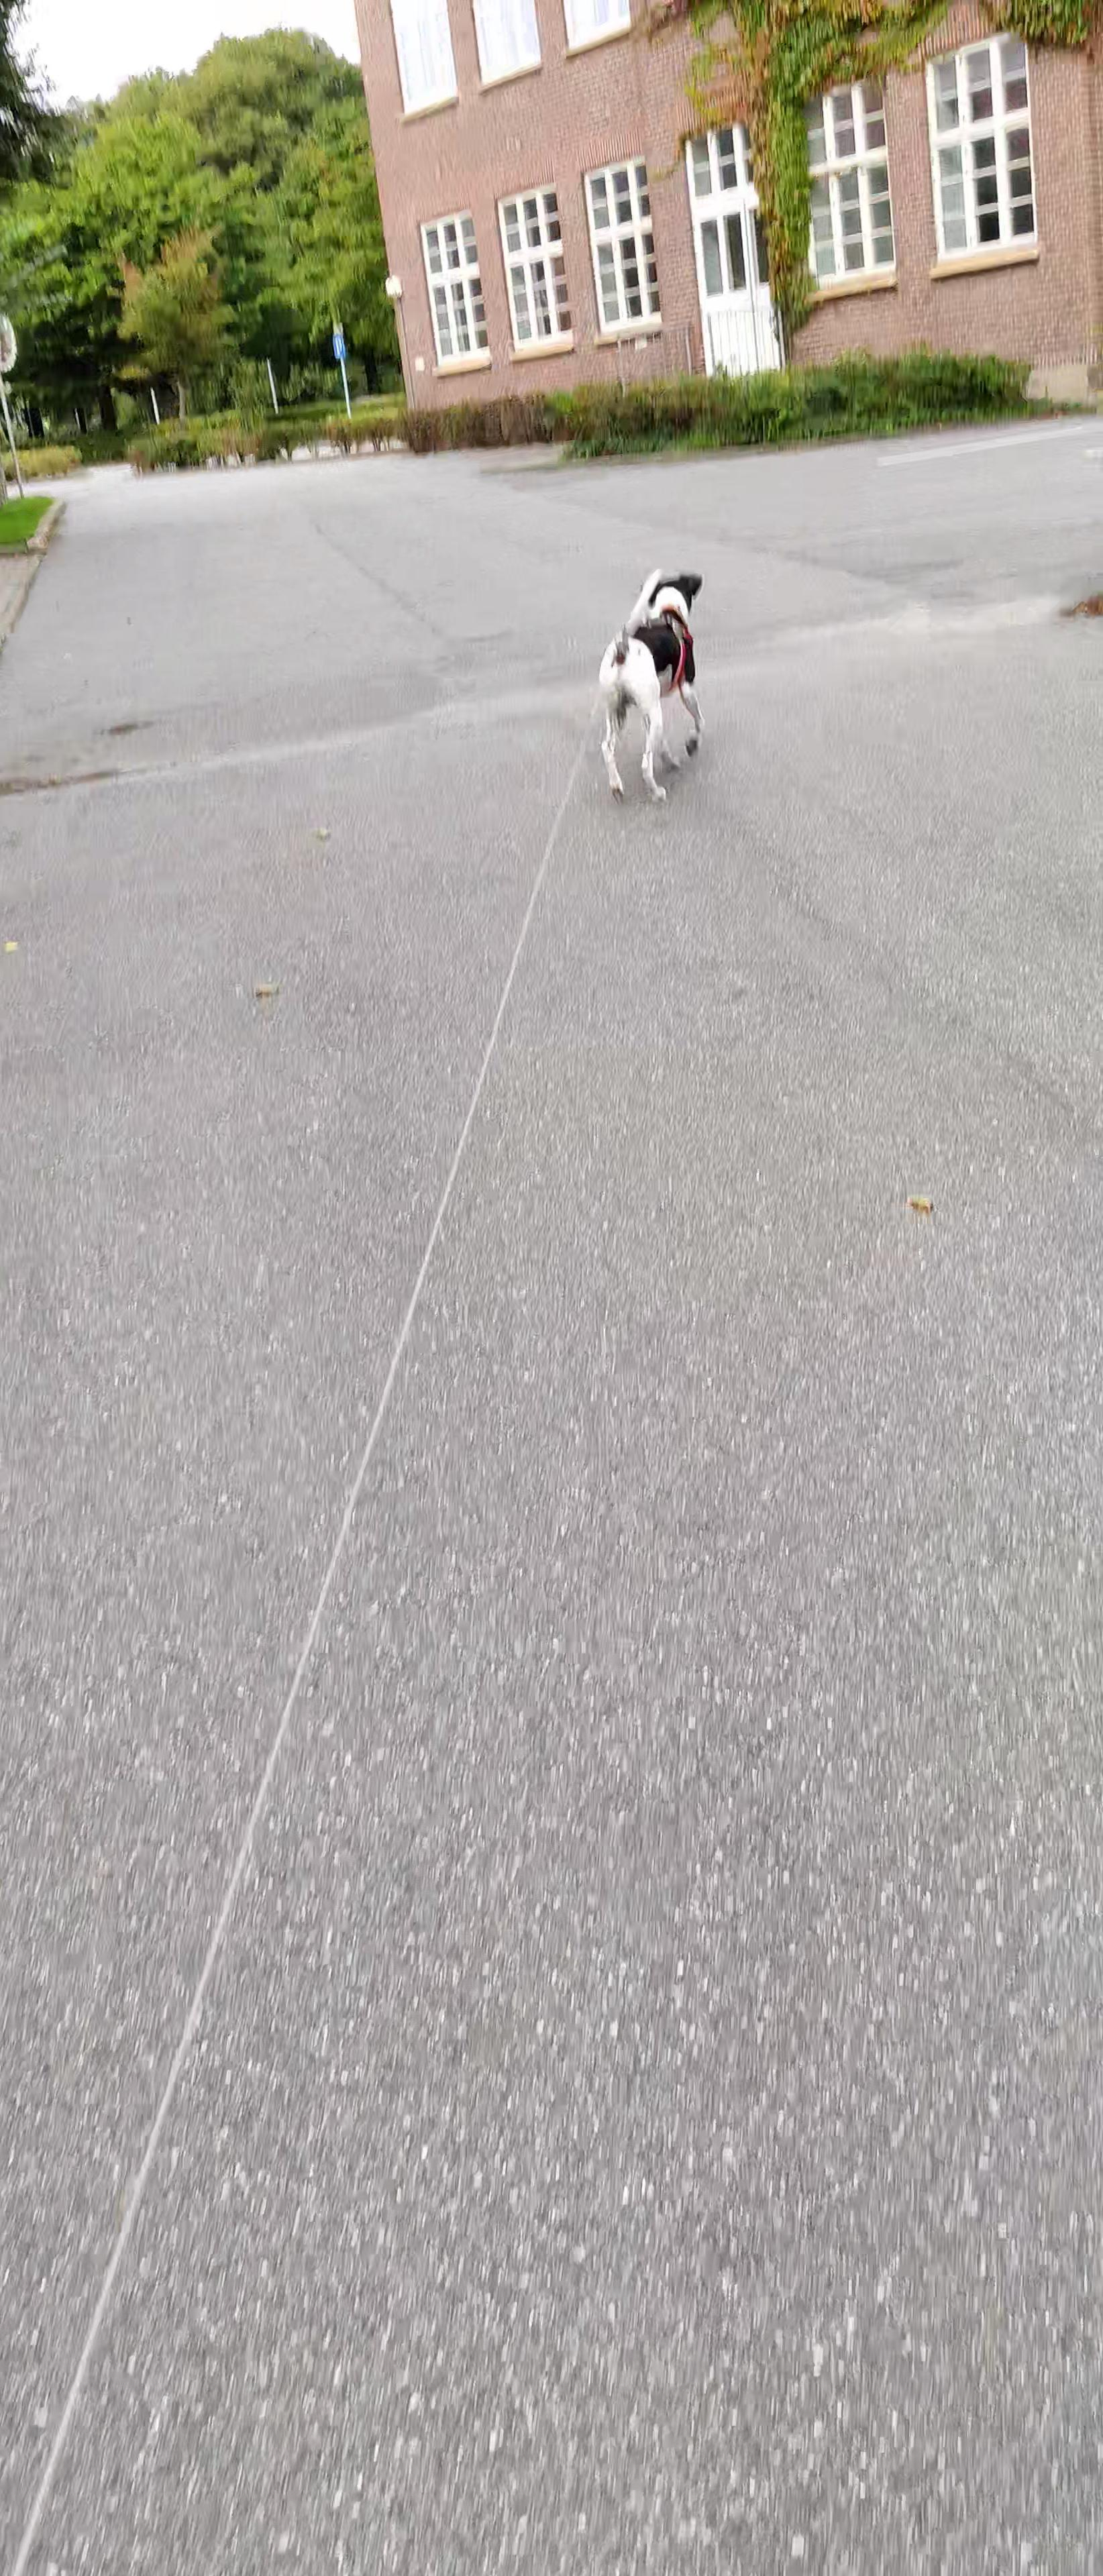Dog: (574, 560, 727, 812)
